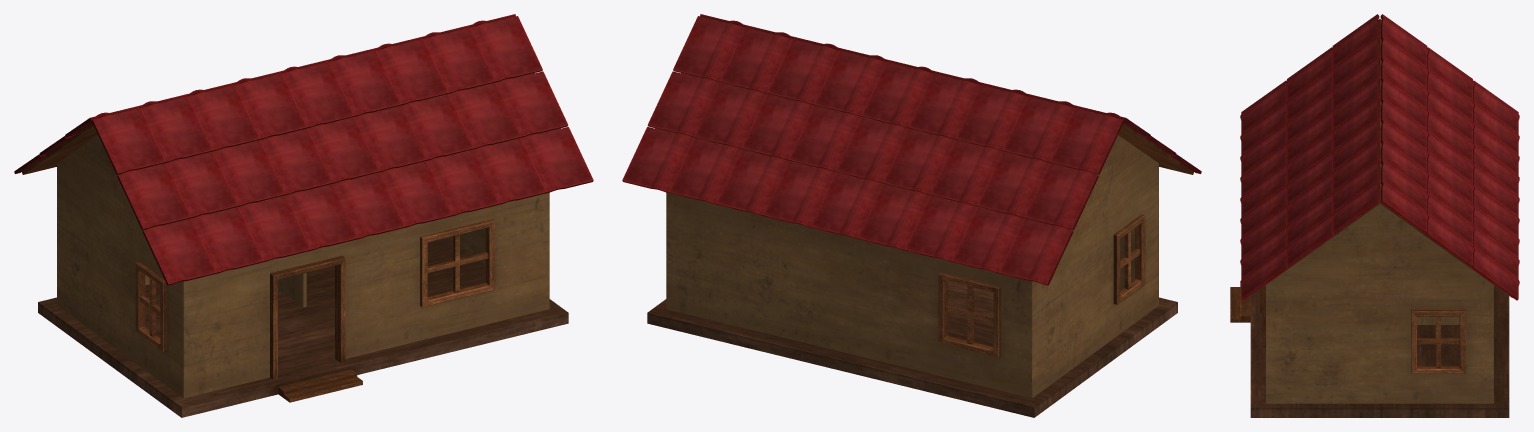
File: House.fbx
The picture shows the model from 3 angles, left to right: view 1: azimuth 30°, elevation 25°; view 2: azimuth 150°, elevation 25°; view 3: azimuth 270°, elevation 25°; orthographic projection. The views are drawn at different scales.
Parts seen in each view (by area): view 1: Cube.028, House, Cube.003, Cube.002, Cube.008, Cube.001, Cube.011, Cube.012, Cube.005, Cube.004, Cube.018; view 2: Cube.028, House, Cube.003, Cube.010, Cube.001, Cube.011, Cube.014; view 3: Cube.028, House, Cube.003, Cube.009, Cube.001, Cube.013, Cube.005, Cube.018, Cube.004.
Boxes of the visible parts, x1,y1,x2,y2 form: Cube.028: [14, 14, 593, 285]; House: [57, 135, 549, 398]; Cube.003: [38, 237, 568, 417]; Cube.002: [270, 255, 345, 379]; Cube.008: [420, 219, 494, 307]; Cube.001: [22, 73, 560, 229]; Cube.011: [135, 262, 166, 351]; Cube.012: [427, 234, 488, 292]; Cube.005: [284, 377, 362, 402]; Cube.004: [278, 369, 357, 397]; Cube.018: [278, 273, 306, 307]; Cube.028: [622, 14, 1201, 285]; House: [666, 135, 1158, 398]; Cube.003: [647, 281, 1177, 417]; Cube.010: [938, 272, 1000, 357]; Cube.001: [655, 73, 1193, 229]; Cube.011: [1113, 214, 1145, 304]; Cube.014: [945, 286, 993, 344]; Cube.028: [1240, 14, 1519, 300]; House: [1266, 204, 1493, 403]; Cube.003: [1250, 285, 1509, 417]; Cube.009: [1411, 310, 1466, 373]; Cube.001: [1247, 19, 1512, 297]; Cube.013: [1417, 316, 1459, 368]; Cube.005: [1230, 287, 1240, 322]; Cube.018: [1417, 316, 1459, 324]; Cube.004: [1240, 284, 1250, 322].
Size of the model in its own units: 1163 by 659 by 762.
1 material, 1 textured.
